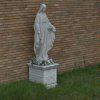Statue: (21, 3, 71, 73)
